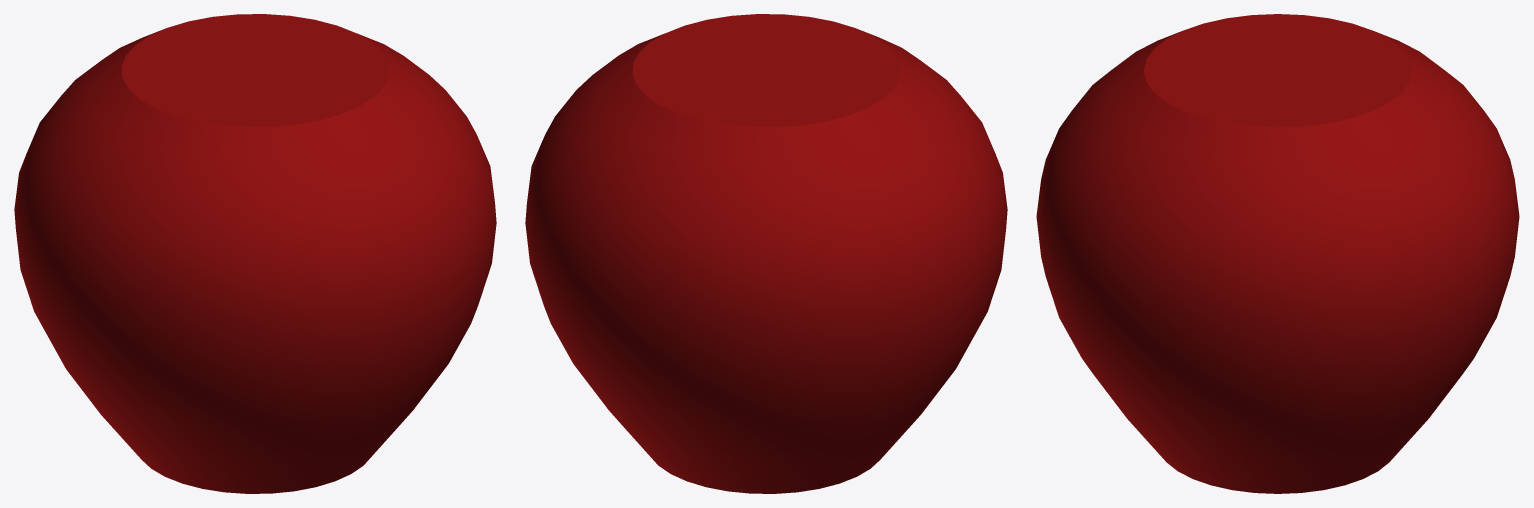
File: StrawberryPealed.FBX
3 views of the same model, side by side, from view 1: azimuth 30°, elevation 25°; view 2: azimuth 150°, elevation 25°; view 3: azimuth 270°, elevation 25° (orthographic).
Parts seen in each view (by area): view 1: Sphere001; view 2: Sphere001; view 3: Sphere001.
Part boxes in pixels (x1,y1,x2,y2): Sphere001: (14, 14, 496, 493); Sphere001: (525, 14, 1007, 493); Sphere001: (1036, 14, 1519, 493).
Size of the model in its own units: 4 by 3.4 by 4.
